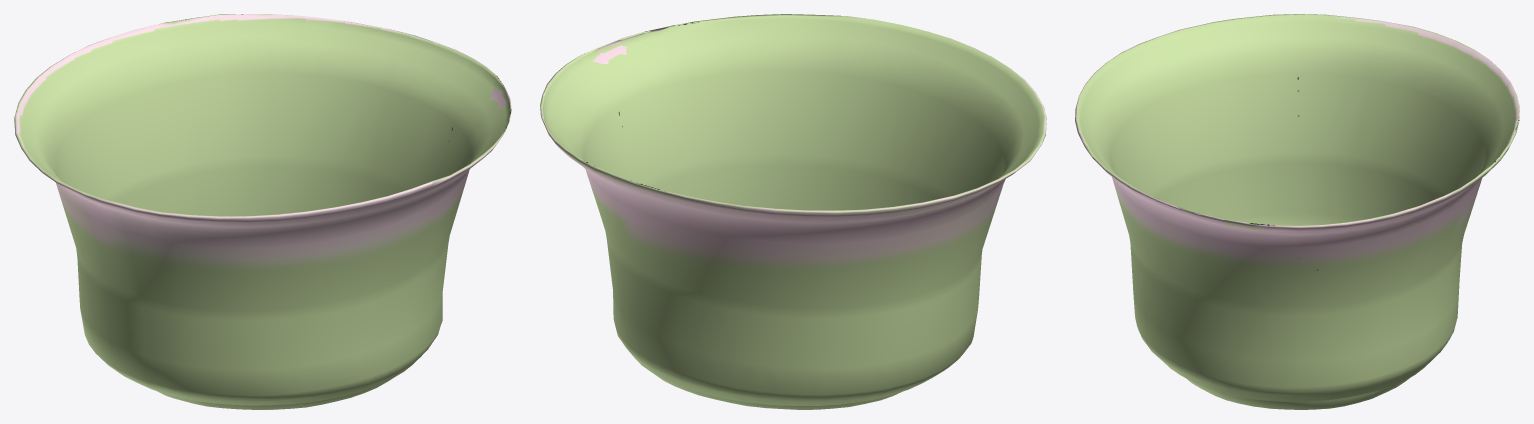
File: sda3.glb
The picture shows the model from 3 angles, left to right: view 1: azimuth 30°, elevation 25°; view 2: azimuth 150°, elevation 25°; view 3: azimuth 270°, elevation 25°; orthographic projection. The views are drawn at different scales.
Parts seen in each view (by area): view 1: material.019, material.018; view 2: material.019, material.018; view 3: material.019, material.018.
Boxes of the visible parts, x1,y1,x2,y2 form: material.019: [14, 14, 511, 405]; material.018: [158, 379, 391, 409]; material.019: [540, 14, 1046, 405]; material.018: [654, 374, 901, 409]; material.019: [1075, 14, 1519, 401]; material.018: [1186, 377, 1410, 409].
Bounding box in the file's own units: 2.09 × 1.1 × 1.88.
Materials: 2 (2 with a texture image).
